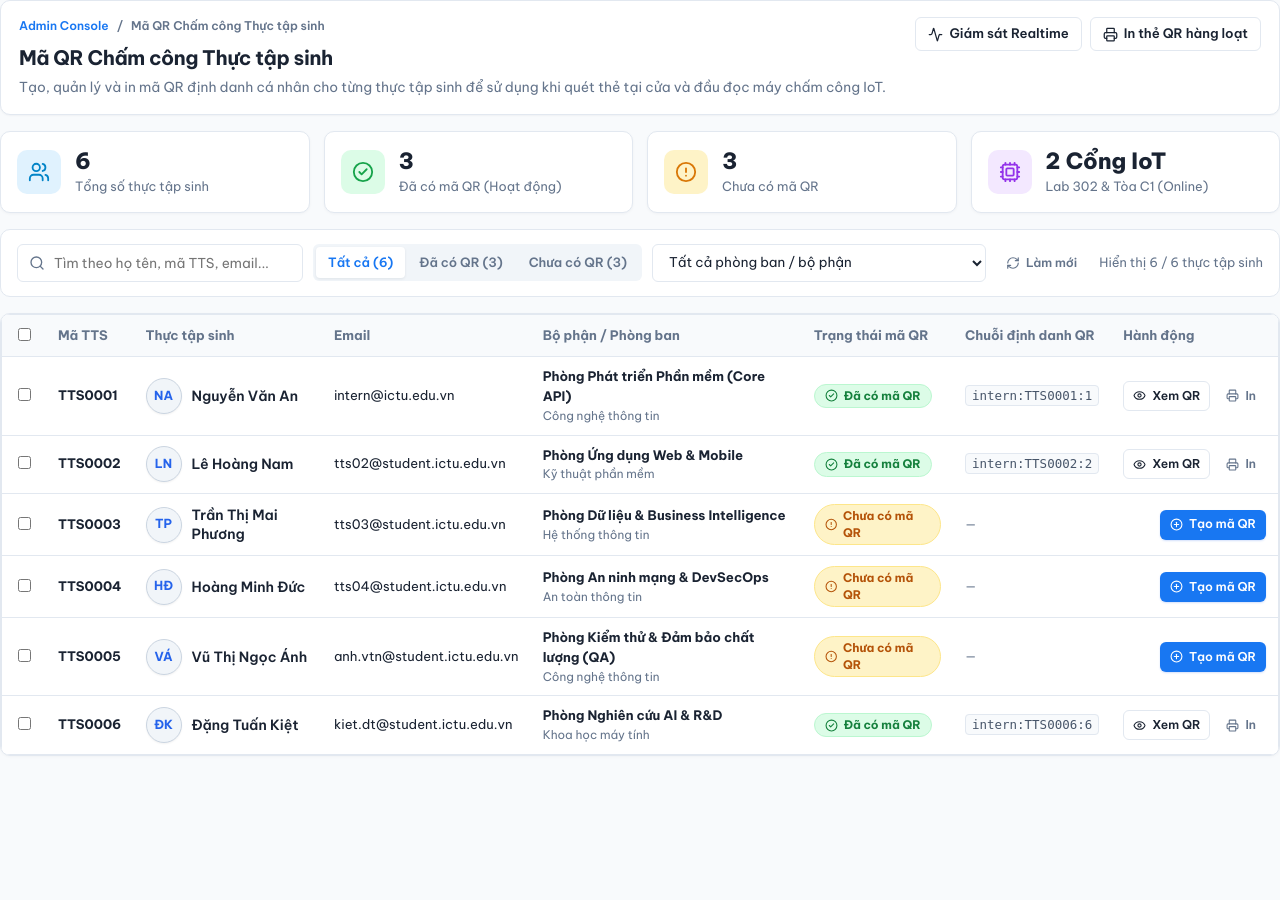
Test: AdminInternQrPage - Giao diện Quản lý Mã QR Chấm công Thực tập sinh › 6. Thực hiện Tạo mã QR cho thực tập sinh chưa có QR: cập nhật trạng thái thành "Đã có mã QR"
This screenshot has width=1280, height=900.
Expected: the text "TTS0003" is shown, x1=58 y1=516 x2=121 y2=532
Note: Bấm tạo mã QR
Click the button with test id "create-qr-btn-TTS0003".
click(1213, 525)  # box x1=1160 y1=510 x2=1266 y2=540
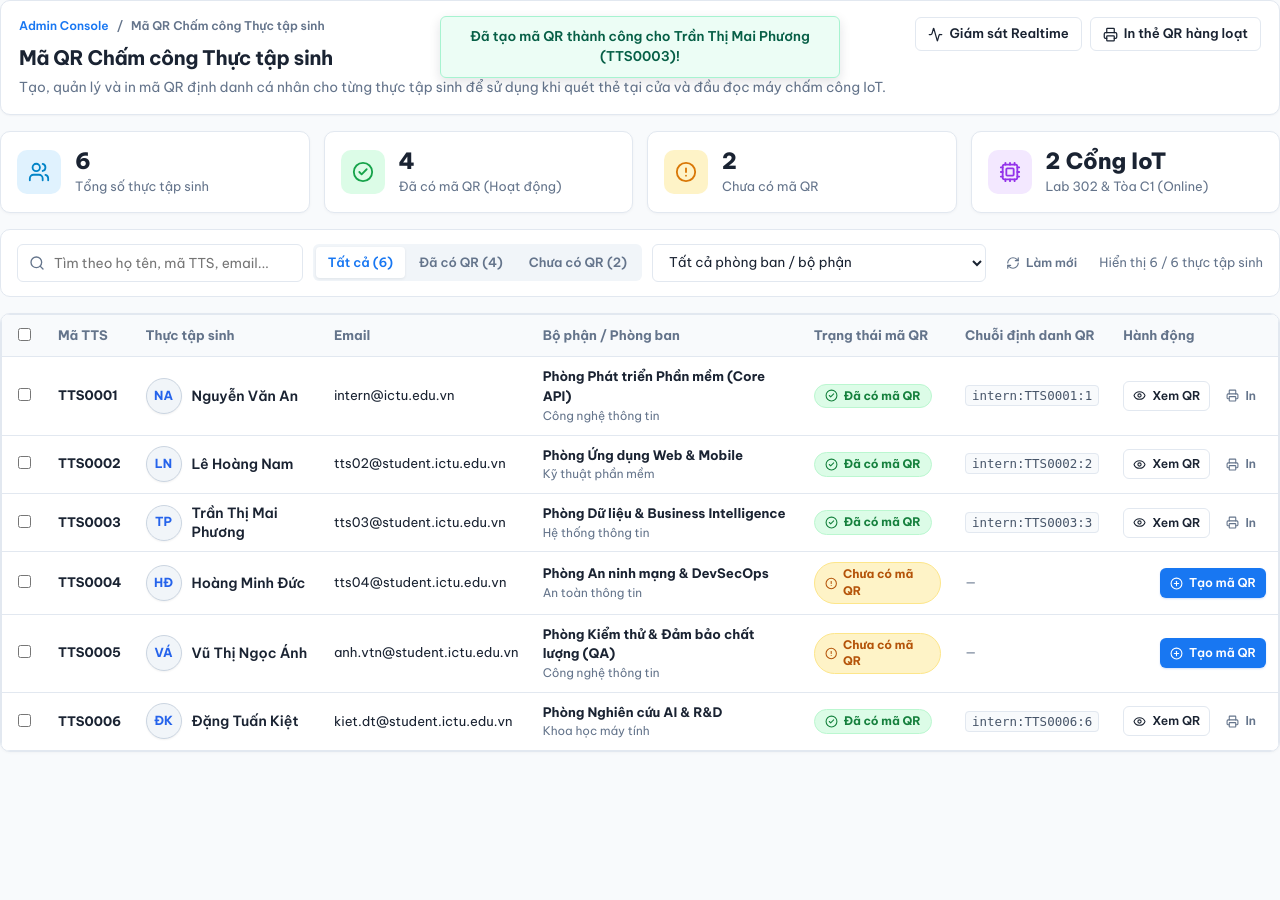
Now the element with test id "badge-has-qr-TTS0003" is shown, box x1=814 y1=510 x2=932 y2=535
Now the button with test id "view-qr-btn-TTS0003" is shown, box x1=1123 y1=508 x2=1210 y2=538
Now the button with test id "create-qr-btn-TTS0003" is gone
